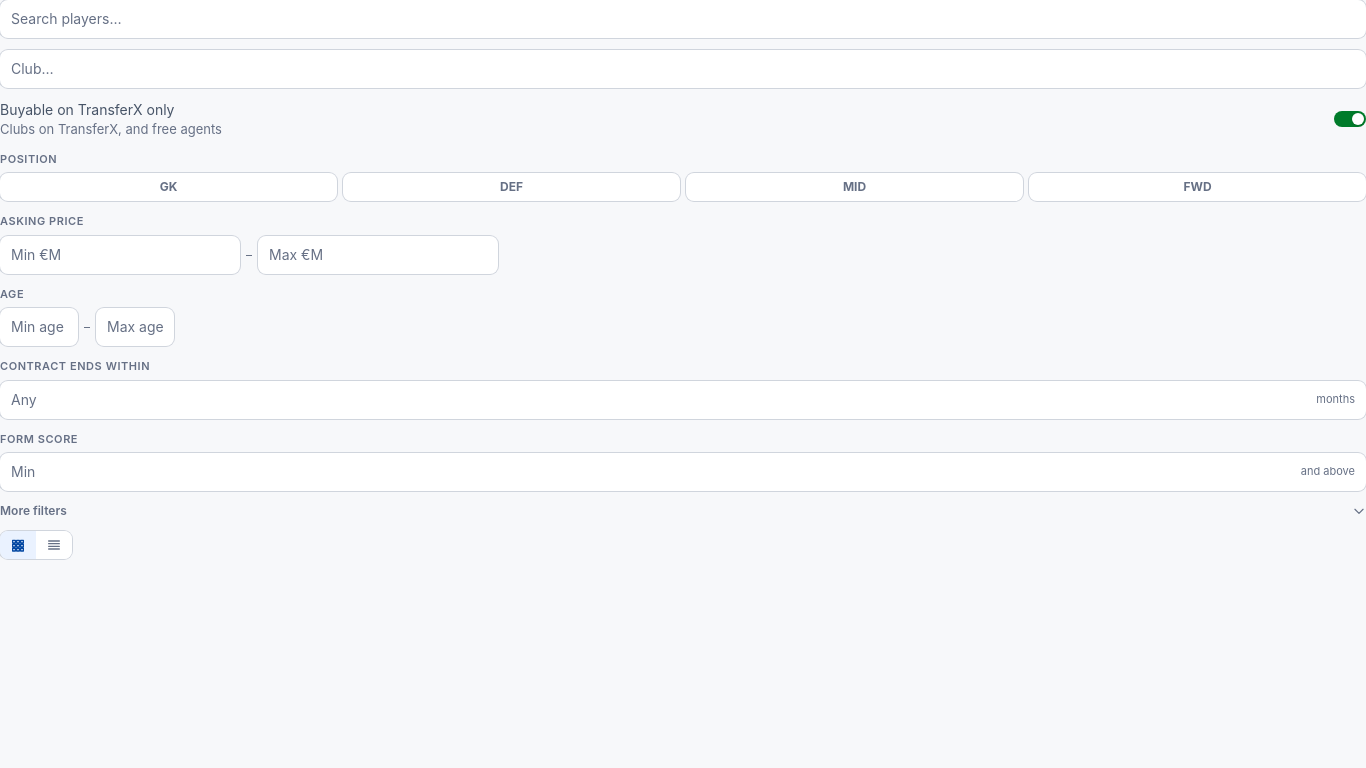
Test case: PlayerFilters › reveals the secondary fields (status, open to offers, nationality) behind More filters
Check: the field with placeholder "Nationality…" is not shown
Click the button "More filters" at (33, 511), box [0,503,1365,519]
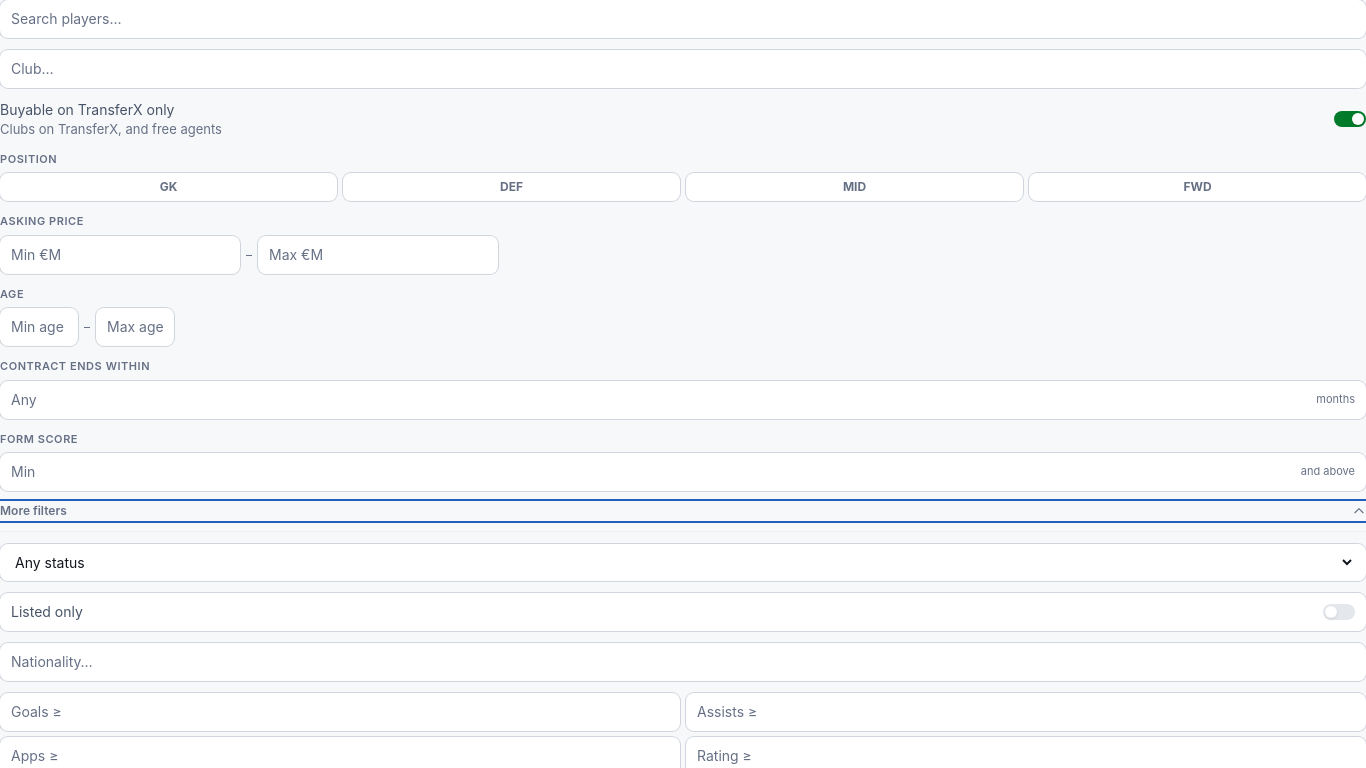
Check: the field with placeholder "Nationality…" is shown, box [11,652,1355,672]
